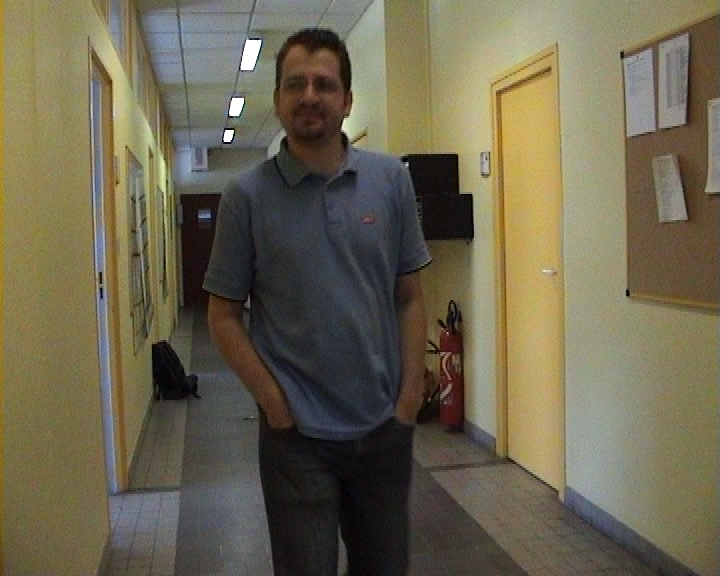leave bag unattended: (135, 328, 230, 409)
